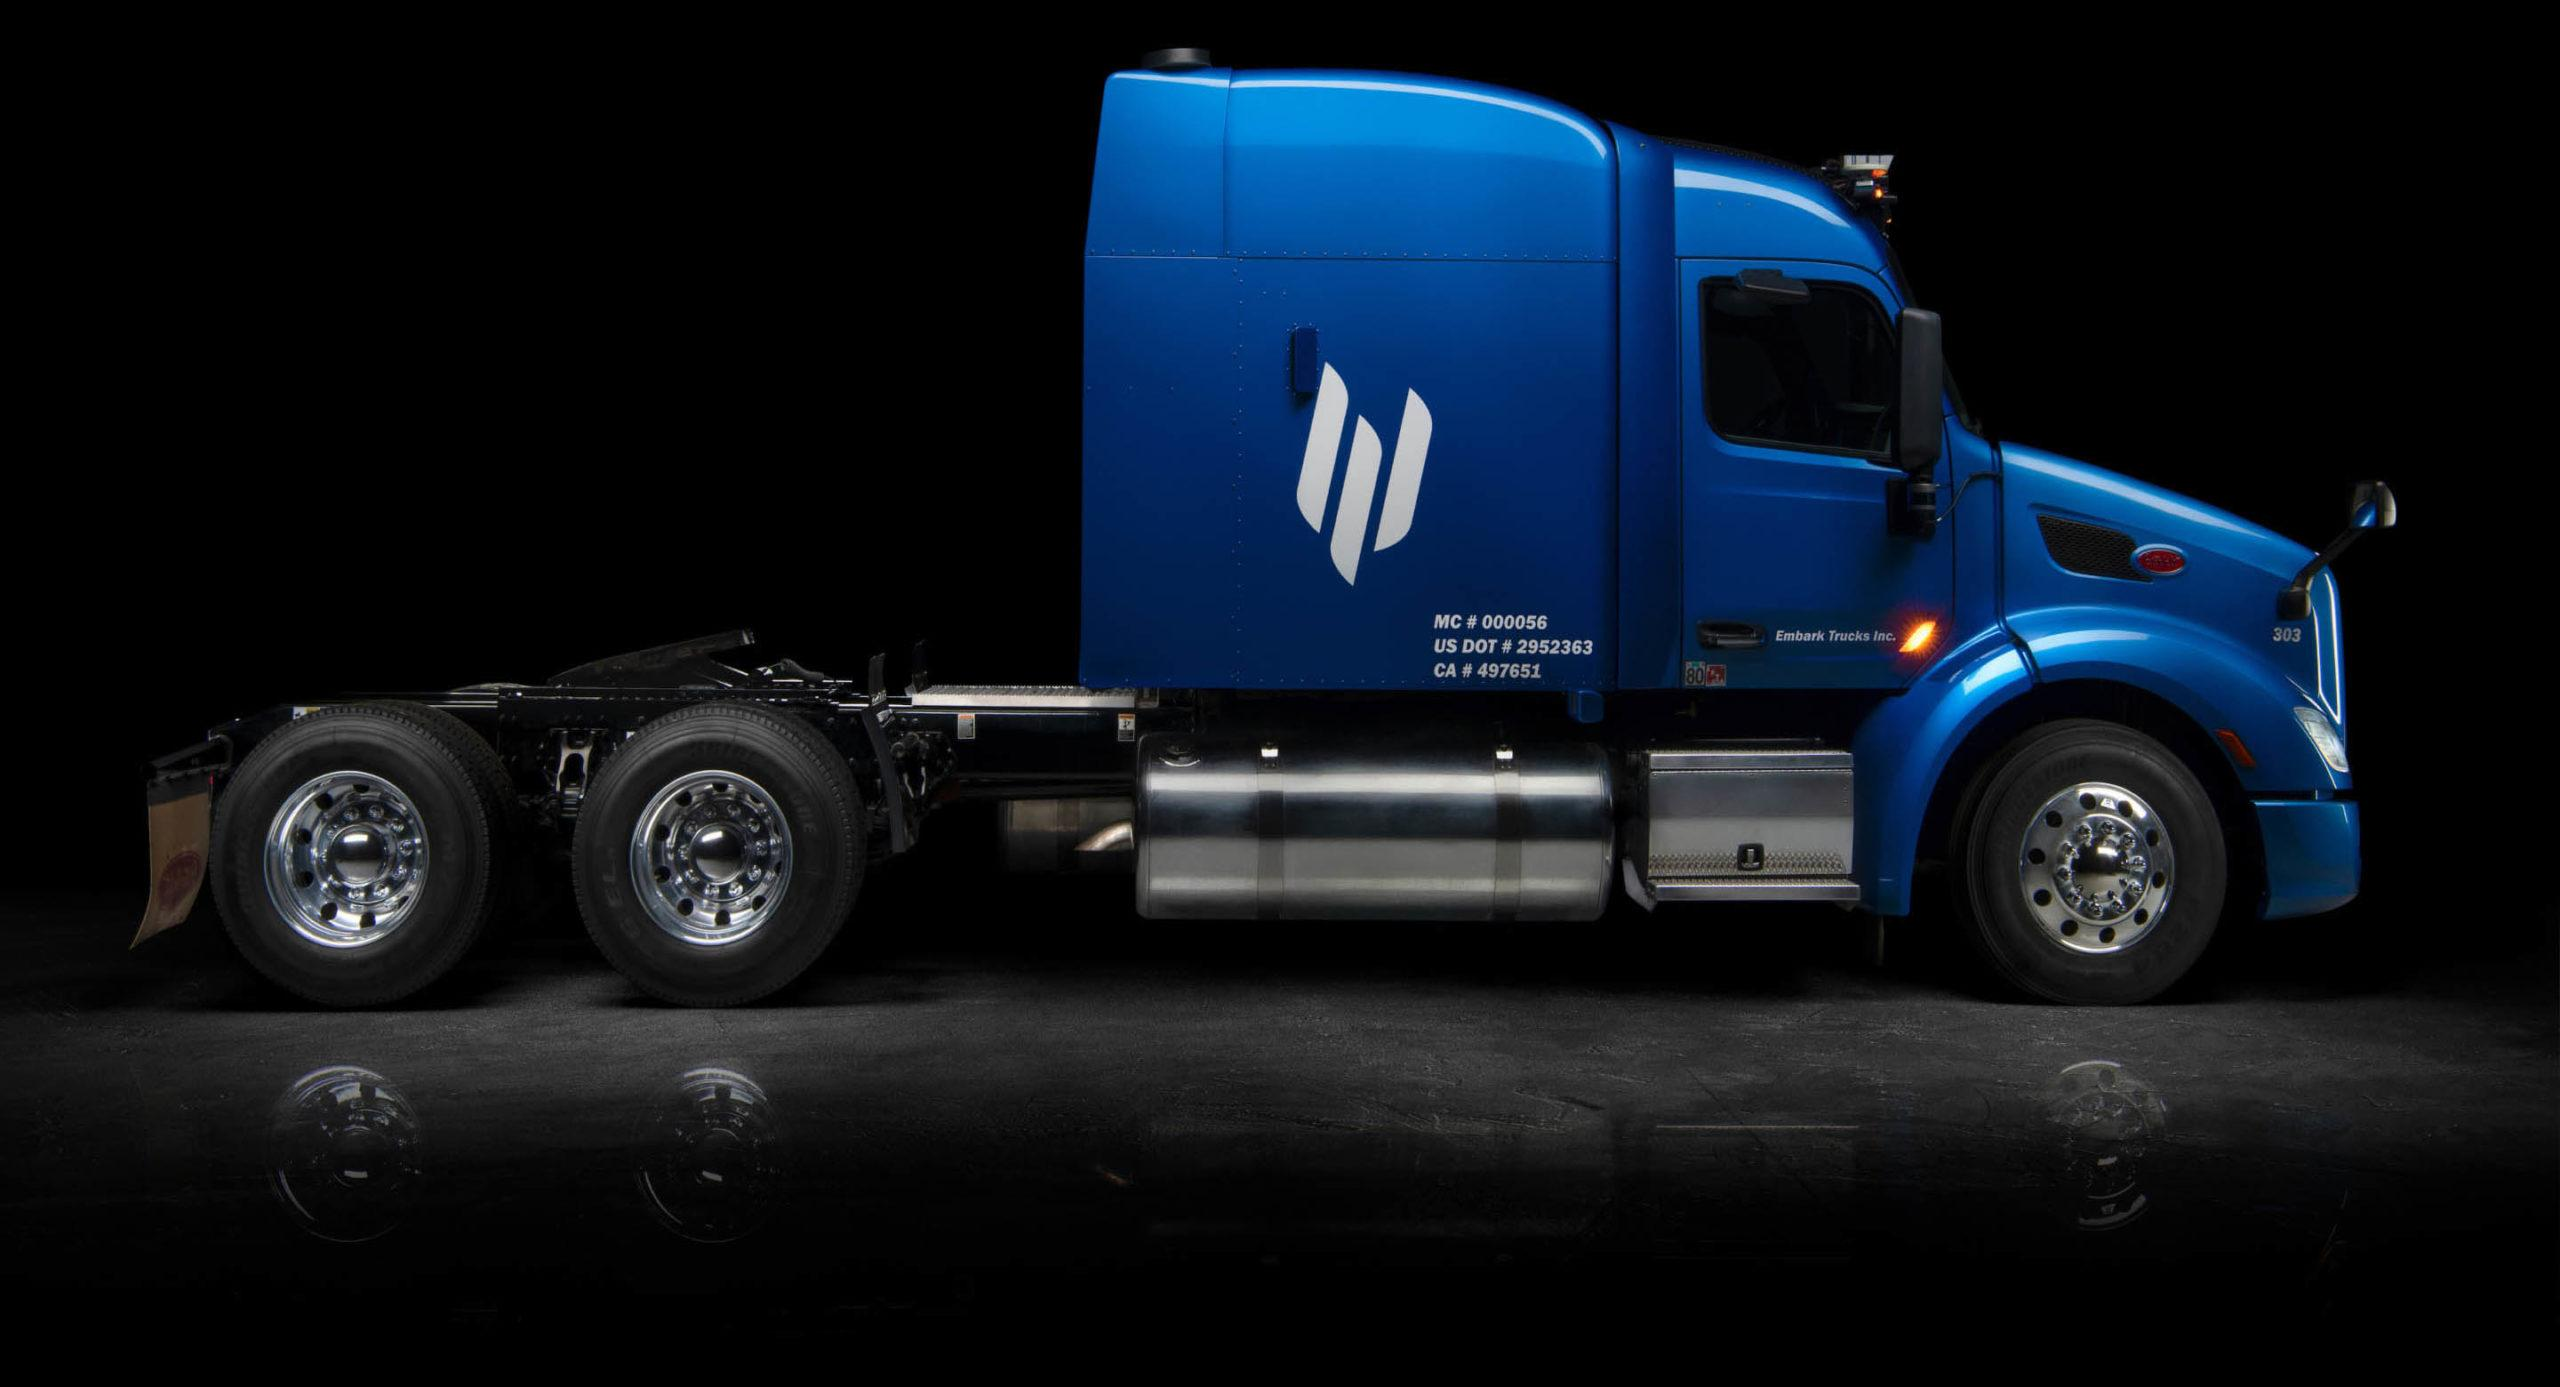truck: (142, 72, 2393, 1013)
